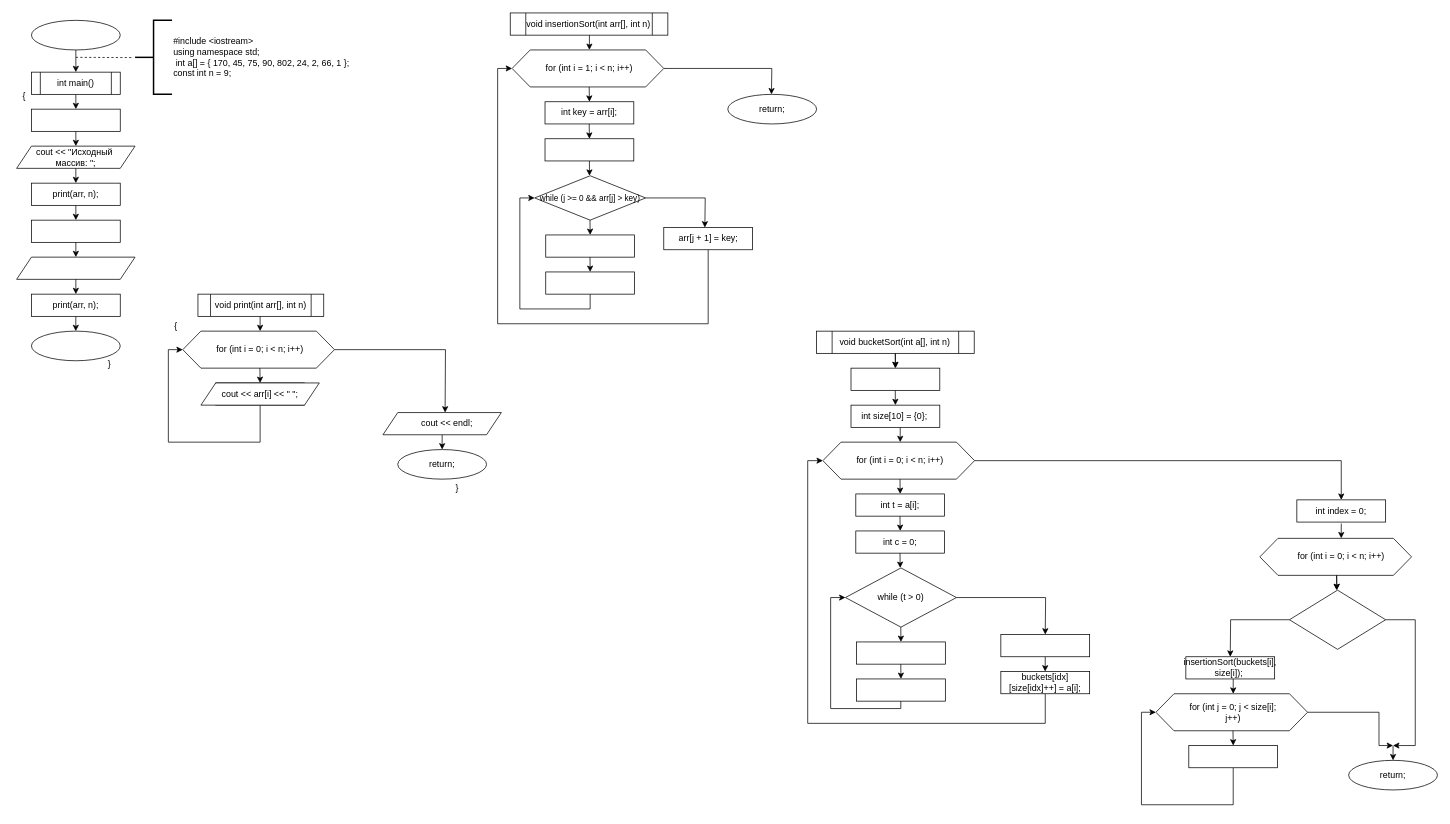
This 1450x824 diagram has some shape labels left out. The shapes that lost their labels are listed below. From the top down, each one's centre as x and y in pixels, then its label:
(x=75, y=35): Начало
(x=75, y=119): setlocale(LC_ALL, "Russian");
(x=589, y=149): int j = i - 1;
(x=75, y=230): bucketSort(a, n);
(x=590, y=245): arr[j + 1] = arr[j];
(x=75, y=267): cout << "Отсортированный массив: ";
(x=590, y=282): j--;
(x=75, y=345): return 0;
(x=895, y=378): int buckets[10][10];
(x=1337, y=619): if (size[i] > 0)
(x=900, y=652): t /= 10;
(x=1045, y=645): int idx = c - 1;
(x=900, y=689): c++;
(x=1233, y=756): a[index++] = buckets[i][j];
